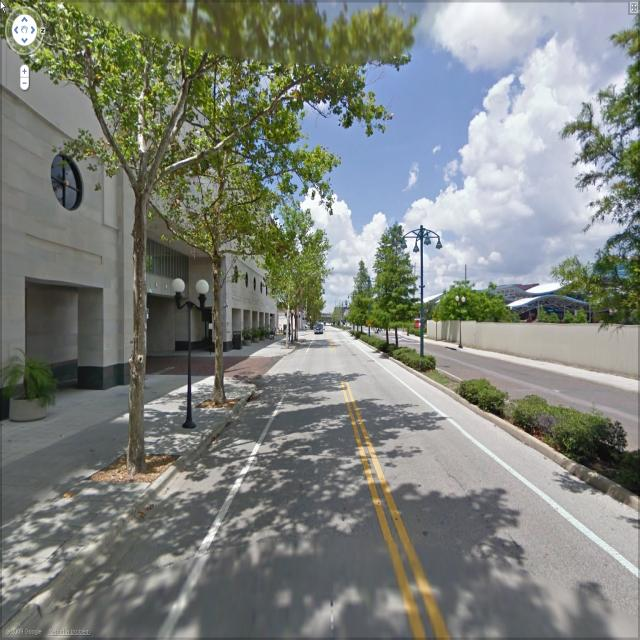b_2: (0, 5, 286, 344), (424, 282, 604, 342)
